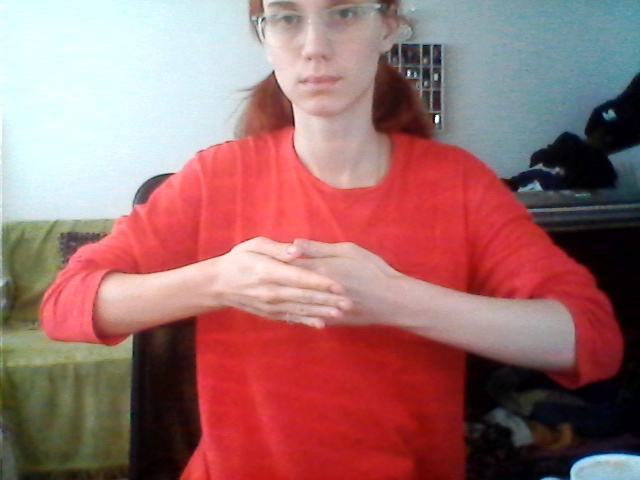dvere: (210, 235, 403, 336)
